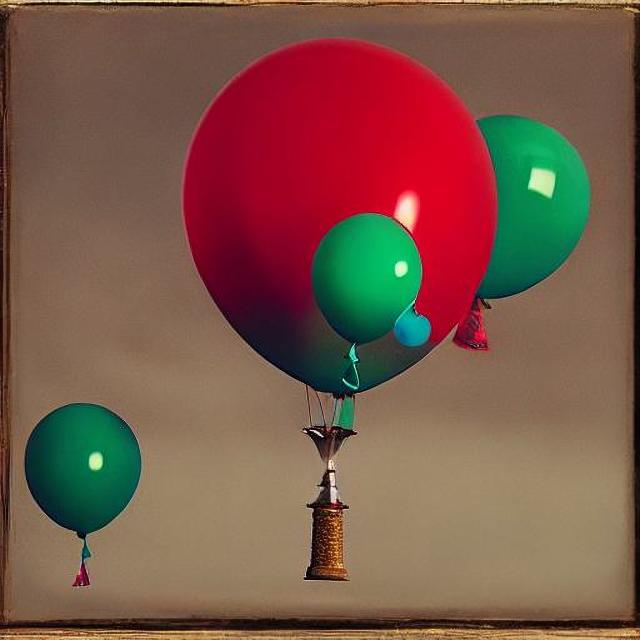balloon: (168, 31, 594, 403), (18, 394, 142, 535)
